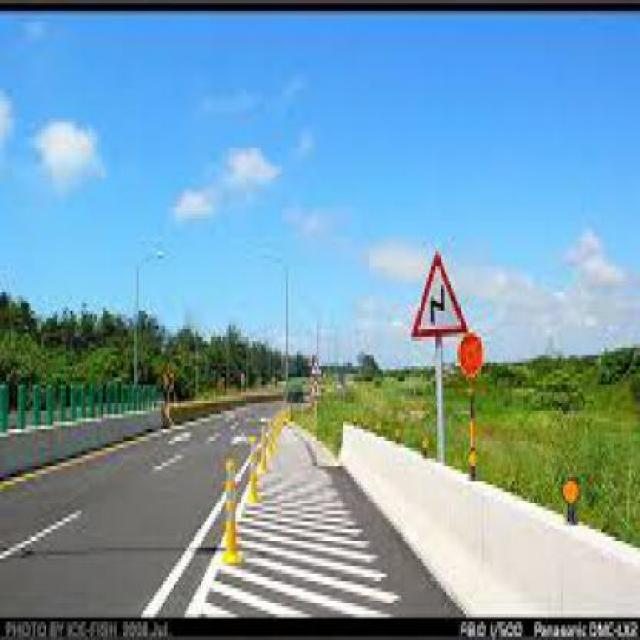traffic_sign: (408, 251, 468, 337)
